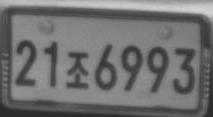1: (41, 40, 63, 88)
2: (14, 39, 37, 86)
3: (172, 46, 196, 95)
6: (93, 43, 118, 90)
9: (146, 46, 170, 93), (120, 44, 143, 91)
조: (65, 49, 89, 90)
